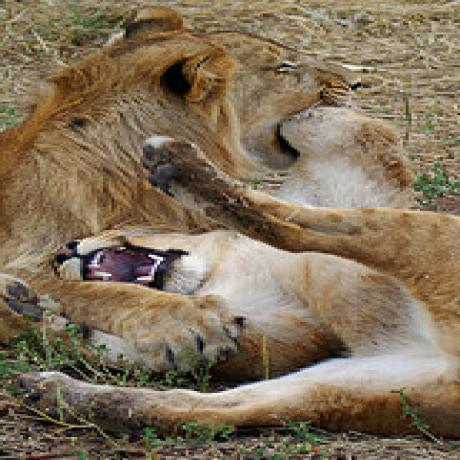Lion: (57, 204, 460, 460), (0, 6, 357, 239)
